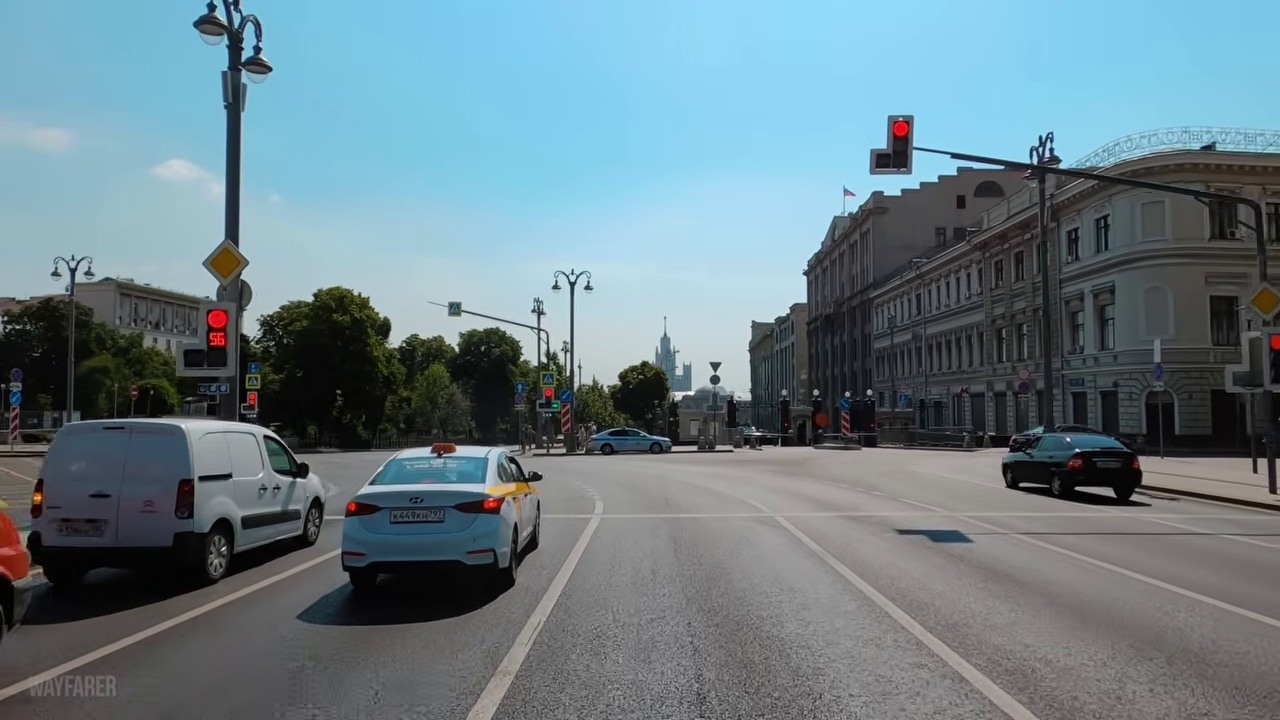apagada: (1026, 124, 1063, 176), (550, 270, 594, 301), (238, 52, 274, 82)
